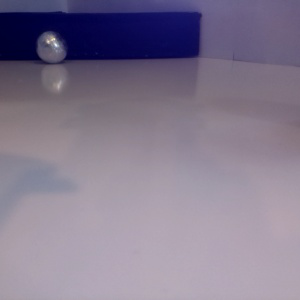zone: (1, 11, 202, 60)
